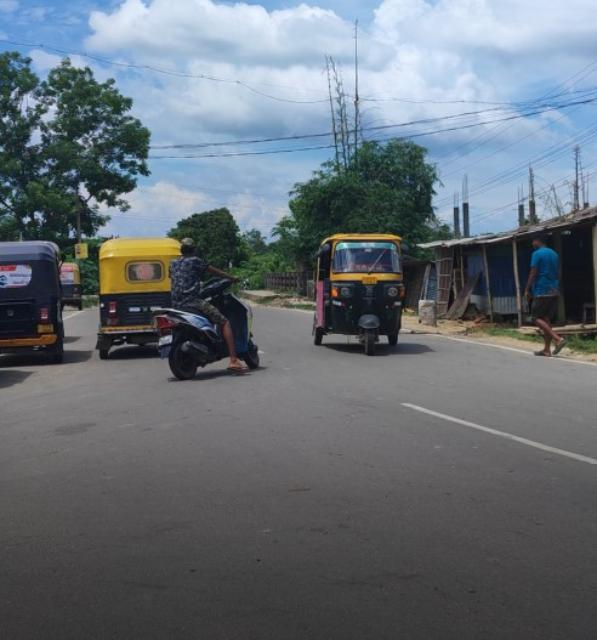licensePlate: (159, 330, 175, 351)
motorcycle: (151, 238, 267, 382)
withoutHelmet: (174, 240, 196, 253)
